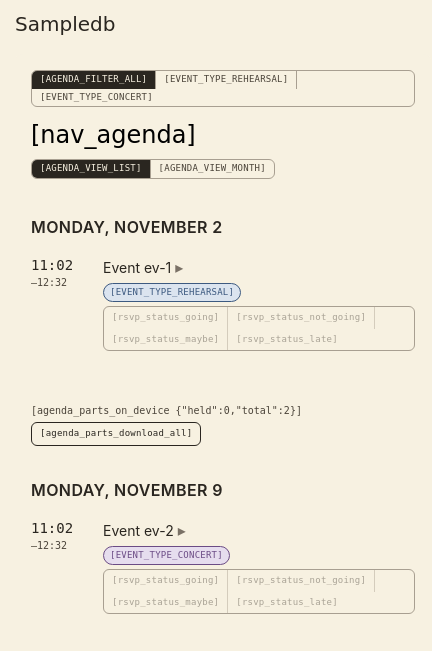
Test: #945 — Download all › a failed part while online says why under the button
The width and height of the screenshot is (432, 651).
Click the button "[agenda_parts_download_all]" at (116, 434), box [31,422,201,446]
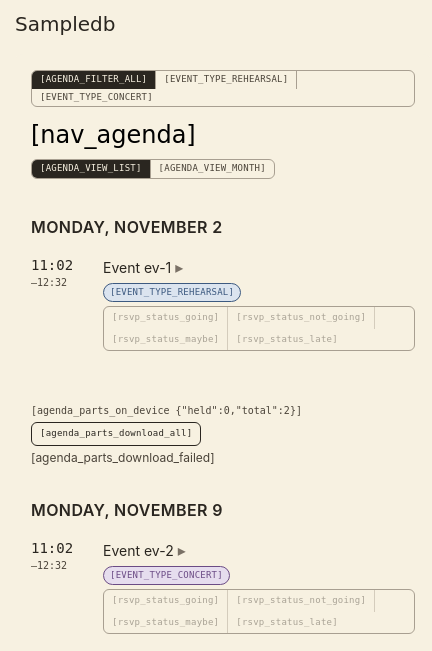
Check: the text "[agenda_parts_download_failed]" is shown, box [31,450,215,464]
